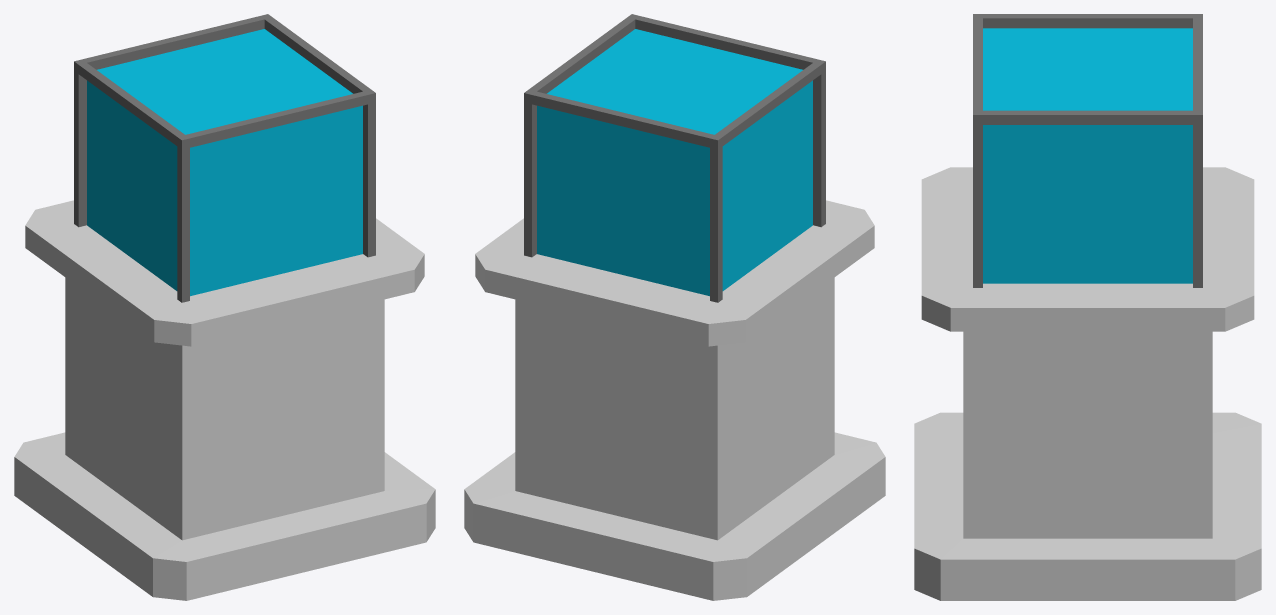
File: GA-Display.fbx
The picture shows the model from 3 angles, left to right: view 1: azimuth 30°, elevation 25°; view 2: azimuth 150°, elevation 25°; view 3: azimuth 270°, elevation 25°; orthographic projection. The views are drawn at different scales.
Parts seen in each view (by area): view 1: Display, DisplayGlass; view 2: Display, DisplayGlass; view 3: Display, DisplayGlass.
Part boxes in pixels (<box>): Display: <box>14,200,435,600</box>; DisplayGlass: <box>74,14,375,302</box>; Display: <box>464,200,885,600</box>; DisplayGlass: <box>524,14,825,302</box>; Display: <box>914,167,1261,600</box>; DisplayGlass: <box>973,14,1202,287</box>.
Bounding box in the file's own units: 132 × 194 × 132.
